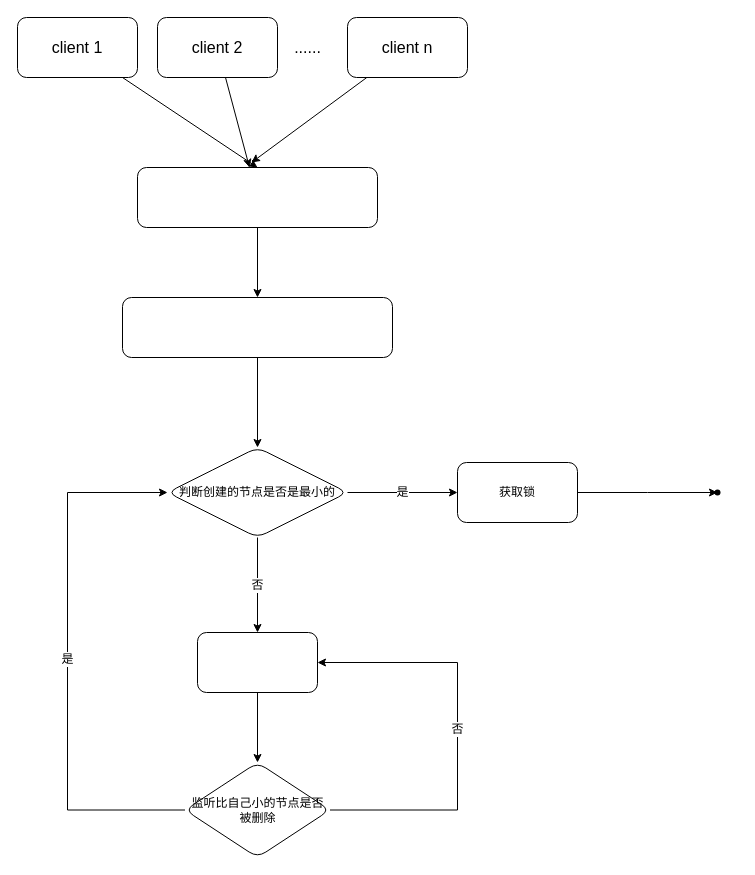
Image size: 755x875. Some labels were removed from this diagram. Here are the shapes that lost their labels. From the top down, the box of each, then its label:
(136, 166, 378, 228): 获取锁的时候创建临时顺序节点
(122, 296, 392, 358): 获取定义节点下的所有的子节点，并排序
(196, 632, 318, 692): 监听比自己小的节点注册监听器，监听删除事件
